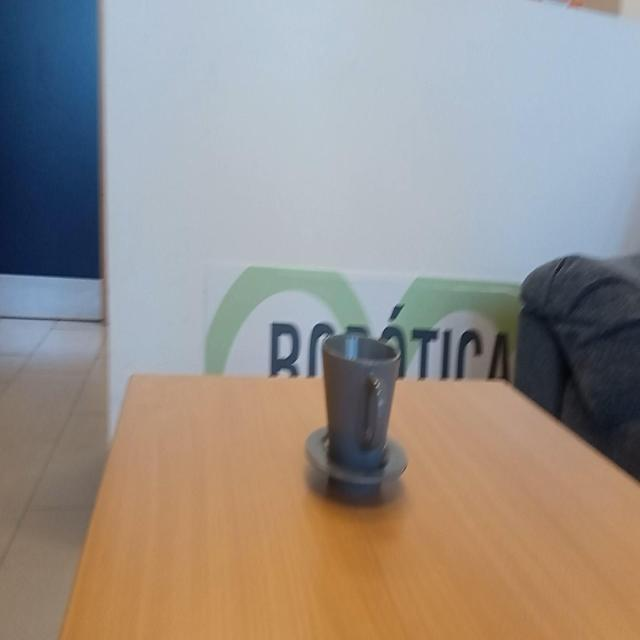cup: (302, 330, 410, 503)
